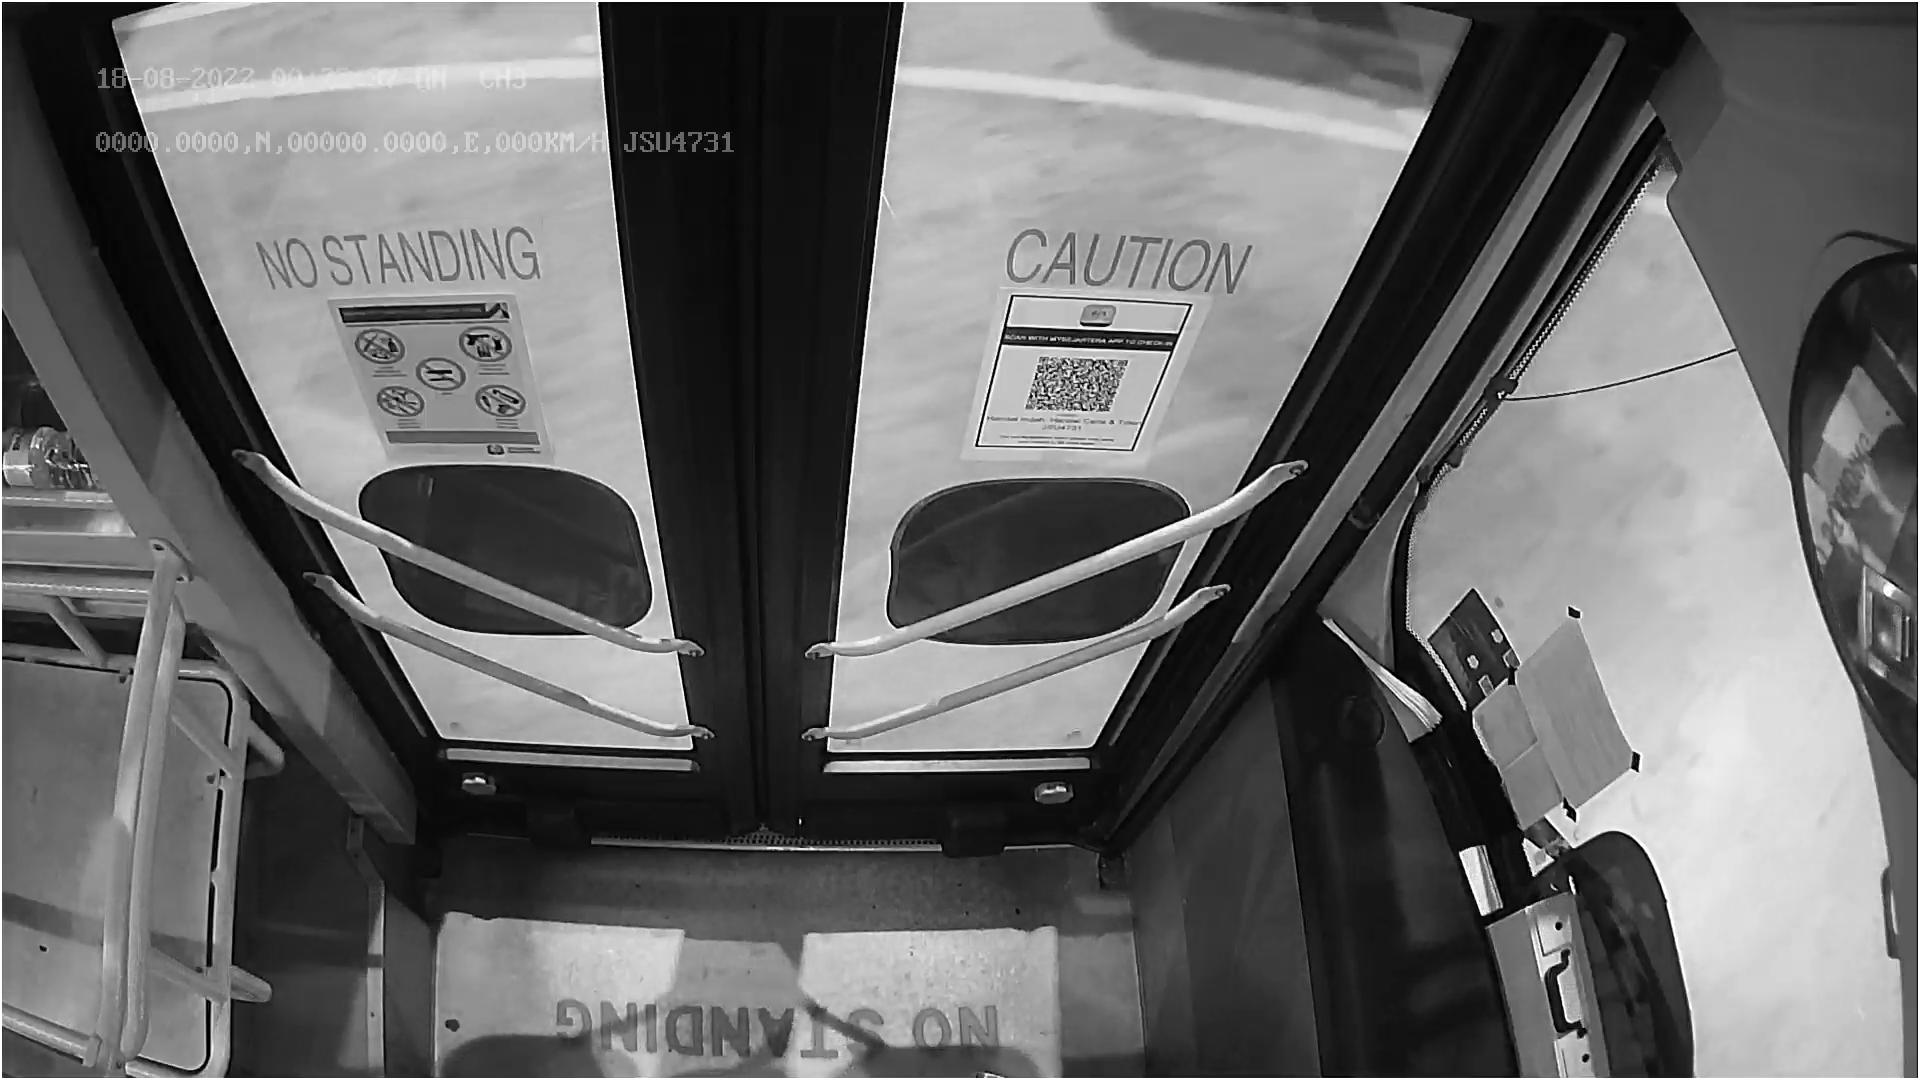close: (131, 0, 1447, 170)
